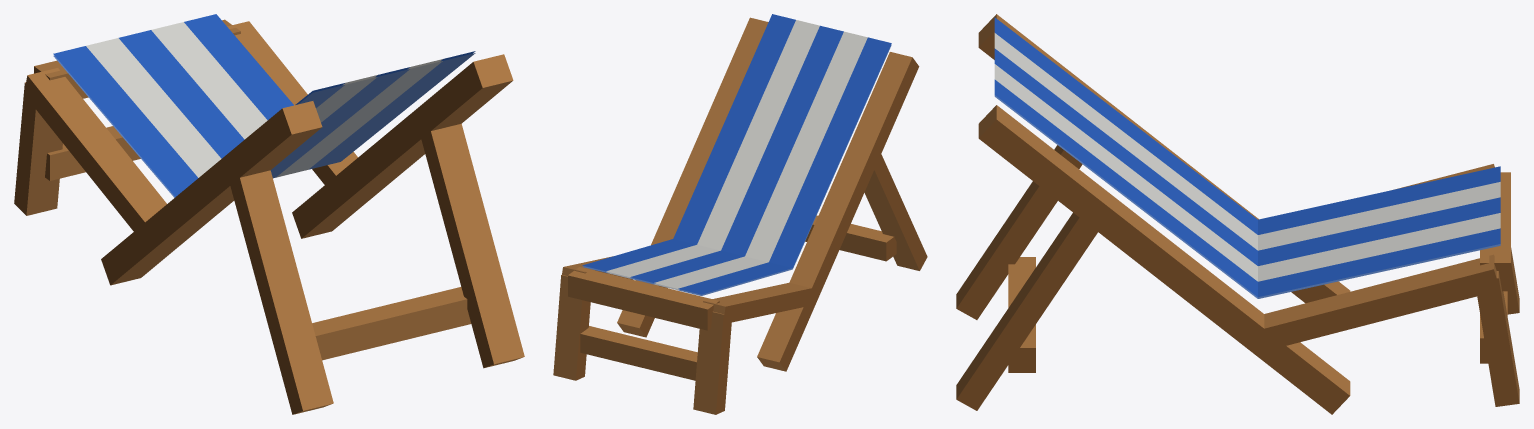
File: prop-deckchair.glb
The picture shows the model from 3 angles, left to right: view 1: azimuth 30°, elevation 25°; view 2: azimuth 150°, elevation 25°; view 3: azimuth 270°, elevation 25°; orthographic projection. The views are drawn at different scales.
Parts seen in each view (by area): view 1: deckchair; view 2: deckchair; view 3: deckchair.
Part boxes in pixels (x1,y1,x2,y2): deckchair: (14, 14, 524, 414); deckchair: (553, 14, 927, 414); deckchair: (956, 14, 1519, 414).
Bounding box in the file's own units: 0.72 × 0.9753 × 1.62.
